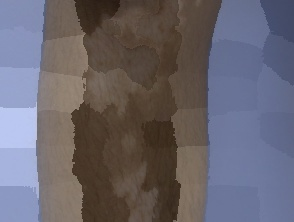vitiligo: (61, 0, 197, 222)
